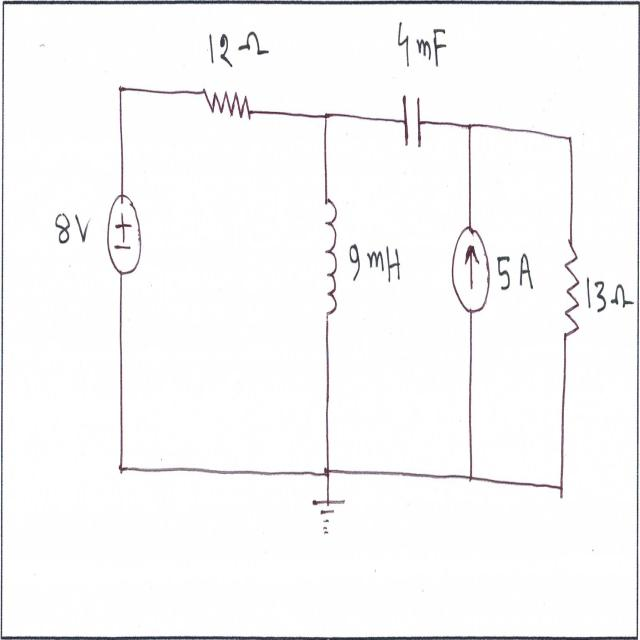capacitor: (399, 86, 426, 155)
current_source: (449, 223, 494, 323)
ground: (310, 487, 347, 549)
inductor: (319, 194, 343, 325)
resistor: (199, 80, 257, 131), (560, 225, 582, 354)
voltage_source: (105, 189, 147, 283)
